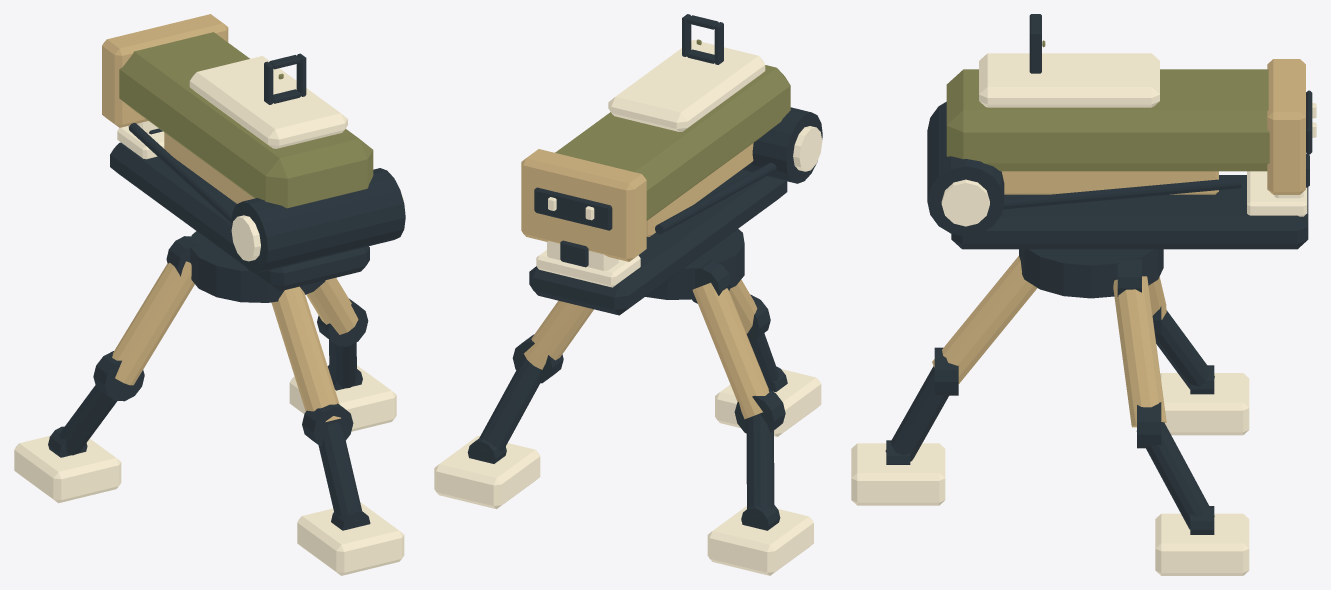
3 renders of one model, left to right at view 1: azimuth 30°, elevation 25°; view 2: azimuth 150°, elevation 25°; view 3: azimuth 270°, elevation 25°, orthographic. The views are drawn at different scales.
Visible parts, largest first — view 1: stapler_spine, rear_hinge, top_pressure_pad, lower_jaw, rear_stabilizer, L_stabilizer, rear_upper_leg, L_upper_leg, nose_armour, turntable, R_stabilizer, rear_lower_leg (+12 smaller); view 2: stapler_spine, lower_jaw, nose_armour, top_pressure_pad, R_stabilizer, L_stabilizer, L_upper_leg, rear_hinge, rear_stabilizer, L_lower_leg, turntable, R_lower_leg (+16 smaller); view 3: stapler_spine, lower_jaw, top_pressure_pad, R_stabilizer, rear_stabilizer, turntable, nose_armour, L_stabilizer, R_upper_leg, rear_hinge, rear_upper_leg, staple_magazine (+9 smaller).
Part boxes in pixels (x1,y1,x2,y2): stapler_spine: (119, 32, 373, 208); rear_hinge: (231, 168, 405, 273); top_pressure_pad: (189, 56, 347, 148); lower_jaw: (110, 142, 369, 291); rear_stabilizer: (297, 502, 404, 575); L_stabilizer: (14, 435, 121, 503); rear_upper_leg: (271, 286, 340, 422); L_upper_leg: (112, 261, 194, 385); nose_armour: (102, 14, 228, 127); turntable: (190, 231, 325, 302); R_stabilizer: (289, 365, 396, 431); rear_lower_leg: (318, 422, 361, 521); stapler_spine: (555, 65, 790, 220); lower_jaw: (529, 170, 787, 315); nose_armour: (521, 149, 646, 261); top_pressure_pad: (608, 40, 765, 131); R_stabilizer: (434, 435, 540, 509); L_stabilizer: (707, 506, 813, 575); L_upper_leg: (692, 282, 769, 419); rear_hinge: (742, 107, 822, 183); rear_stabilizer: (715, 369, 821, 436); L_lower_leg: (746, 413, 774, 517); turntable: (645, 229, 744, 299); R_lower_leg: (479, 358, 540, 451); stapler_spine: (946, 69, 1269, 171); lower_jaw: (951, 175, 1308, 249); top_pressure_pad: (979, 53, 1159, 107); R_stabilizer: (1155, 513, 1249, 575); rear_stabilizer: (851, 443, 945, 505); turntable: (1019, 249, 1163, 298); nose_armour: (1267, 59, 1305, 194); L_stabilizer: (1160, 373, 1249, 435); R_upper_leg: (1113, 276, 1166, 427); rear_hinge: (927, 101, 1004, 236); rear_upper_leg: (932, 256, 1037, 383); staple_magazine: (1001, 171, 1218, 194).
Bounding box in the file's own units: 1.72 × 2.15 × 1.93.
